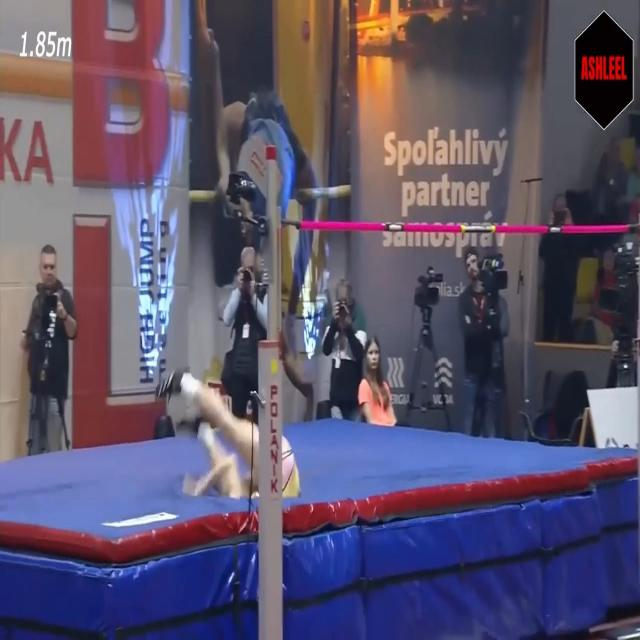land: (156, 364, 301, 501)
